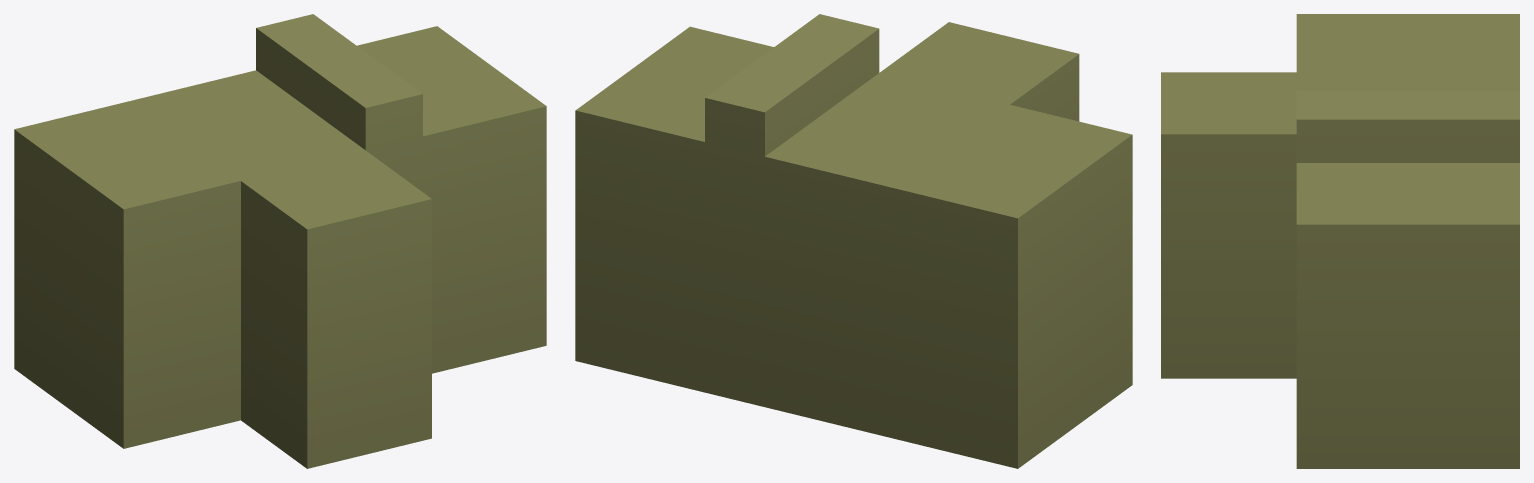
3 views of the same model, side by side, from view 1: azimuth 30°, elevation 25°; view 2: azimuth 150°, elevation 25°; view 3: azimuth 270°, elevation 25° (orthographic). The views are drawn at different scales.
Parts seen in each view (by area): view 1: Cube.002; view 2: Cube.002; view 3: Cube.002.
Boxes of the visible parts, bbox=[...] form: Cube.002: bbox=[14, 14, 546, 468]; Cube.002: bbox=[575, 14, 1132, 468]; Cube.002: bbox=[1161, 14, 1519, 468].
Bounding box in the file's own units: 13.45 × 8.56 × 9.69.
